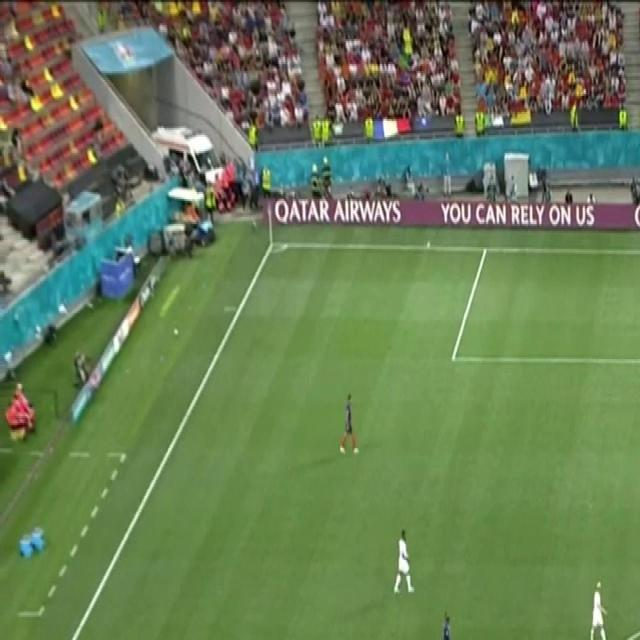player-white: (336, 390, 363, 458), (392, 528, 416, 600), (587, 576, 611, 640), (435, 606, 461, 640)
